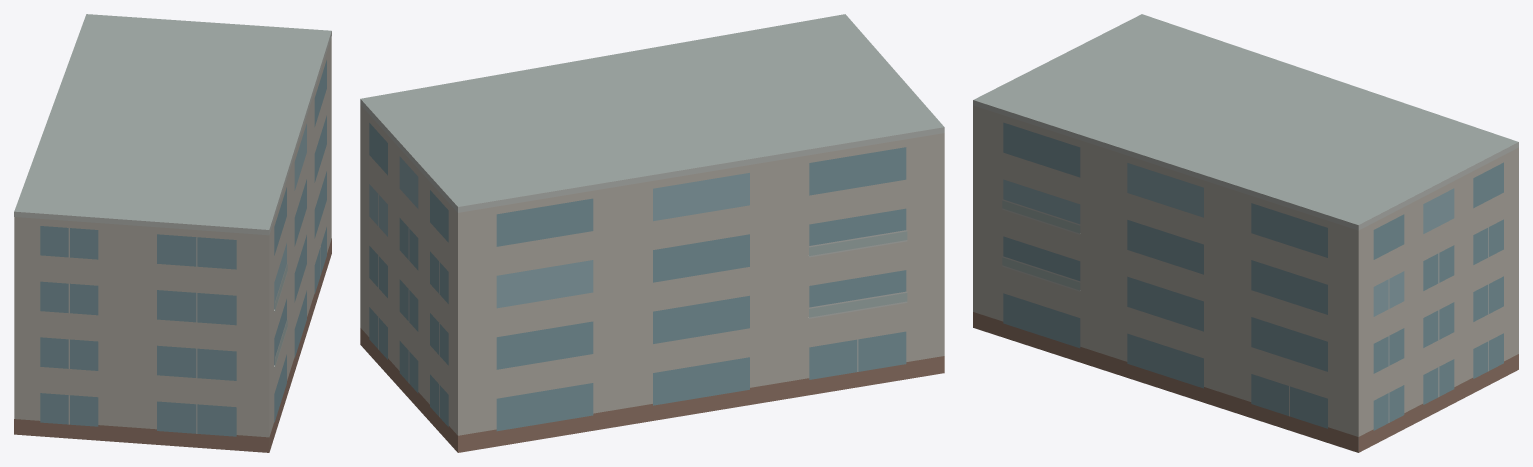
Rendered from survey-upis-32674291.glb.
3 views of the same model, side by side, from view 1: azimuth 30°, elevation 25°; view 2: azimuth 150°, elevation 25°; view 3: azimuth 270°, elevation 25° (orthographic). The views are drawn at different scales.
Visible parts, largest first — view 1: survey-upis-32674291.tmp; view 2: survey-upis-32674291.tmp; view 3: survey-upis-32674291.tmp.
Part boxes in pixels (left/top/right/bottom): survey-upis-32674291.tmp: left=14, top=14, right=331, bottom=452; survey-upis-32674291.tmp: left=360, top=14, right=944, bottom=452; survey-upis-32674291.tmp: left=973, top=14, right=1518, bottom=452.
Bounding box in the file's own units: 20.38 × 10.24 × 22.25.
